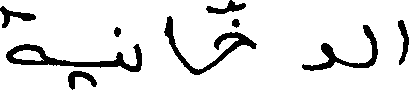ا: (162, 13, 190, 73), (397, 18, 408, 65)
ة: (0, 4, 45, 66)
خ: (211, 0, 256, 69)
د: (300, 41, 337, 71)
ل: (359, 22, 377, 67)
ن: (114, 27, 143, 72)
ي: (65, 50, 124, 89)
